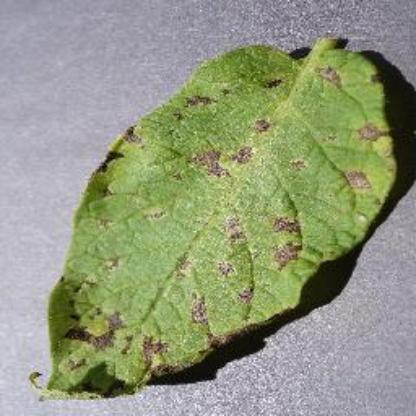Early-Blight: (32, 27, 404, 410)
